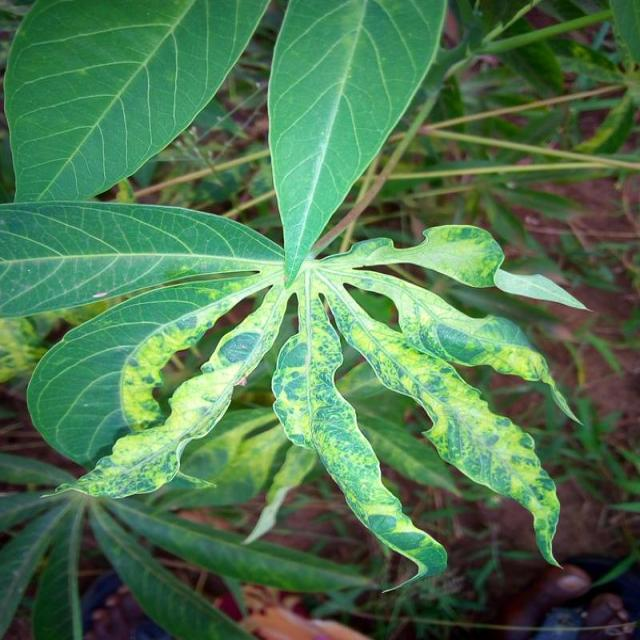Mosaico: (174, 246, 640, 544)
